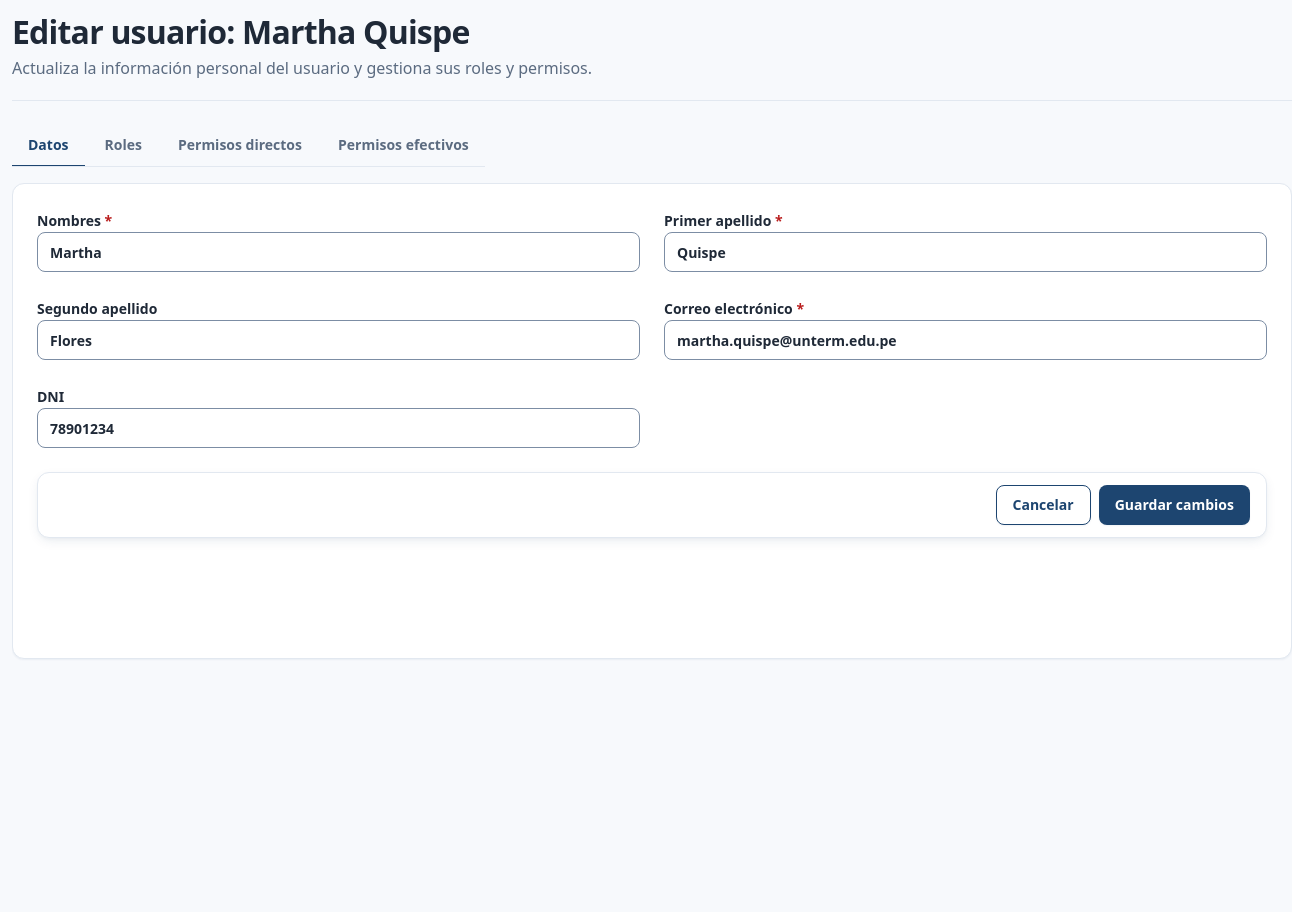
it: EditUserPage component (T-003-27) › renders a single roles block
Step 1. Click the tab "Roles" → (123, 146), box [88,125,158,167]
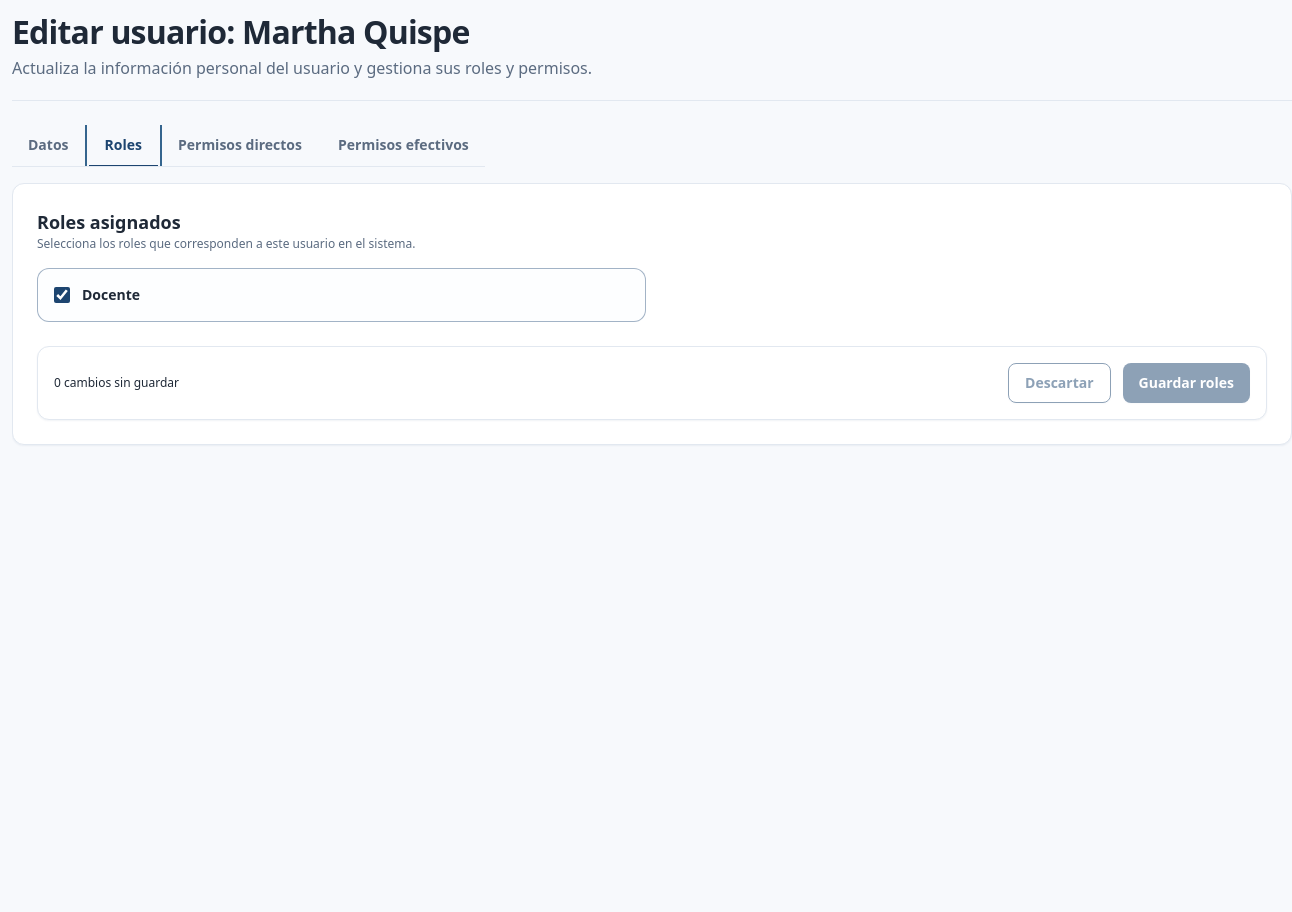
Expected: the number of headings "Roles asignados" is 1, [37,210,181,234]
